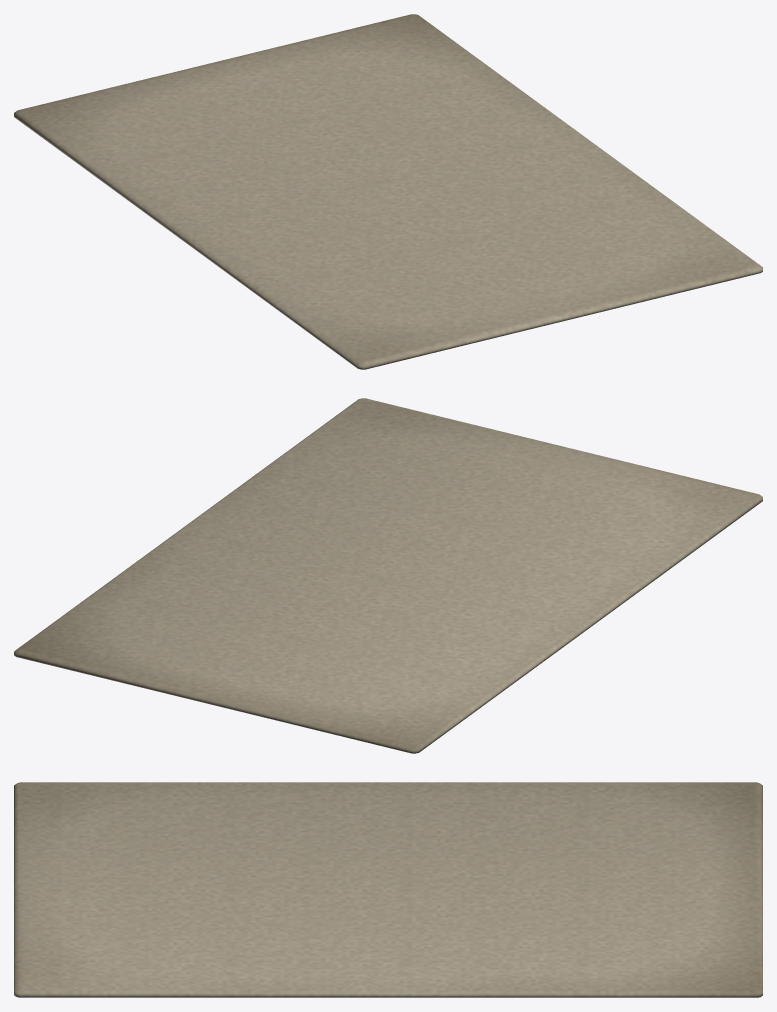
Rendered from EE_Carpet_02.gltf.
The picture shows the model from 3 angles, top to bottom: view 1: azimuth 30°, elevation 25°; view 2: azimuth 150°, elevation 25°; view 3: azimuth 270°, elevation 25°; orthographic projection. The views are drawn at different scales.
Parts seen in each view (by area): view 1: EE_Carpet_02.001; view 2: EE_Carpet_02.001; view 3: EE_Carpet_02.001.
Part boxes in pixels (x1,y1,x2,y2): EE_Carpet_02.001: (14,14,762,369); EE_Carpet_02.001: (14,398,762,753); EE_Carpet_02.001: (14,782,762,997).
Size of what is drawn, in the model's own units: 1.76 by 0.021 by 2.63.
1 material, 1 textured.
